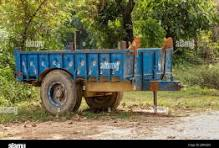wheel: (42, 73, 73, 116)
